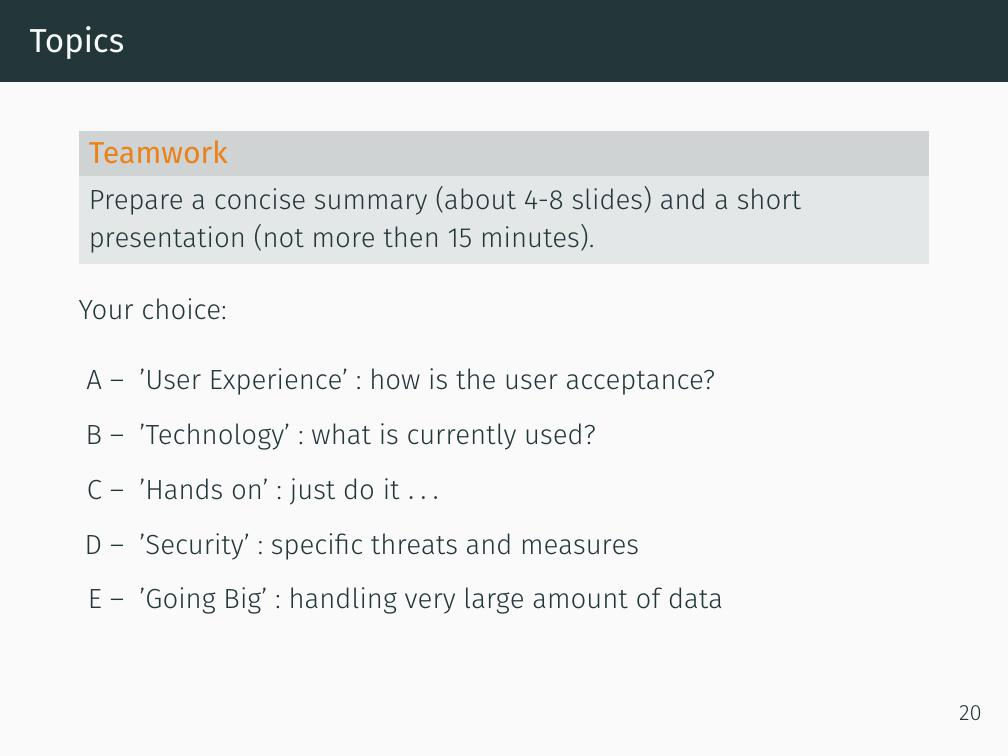Title: (27, 21, 129, 62)
